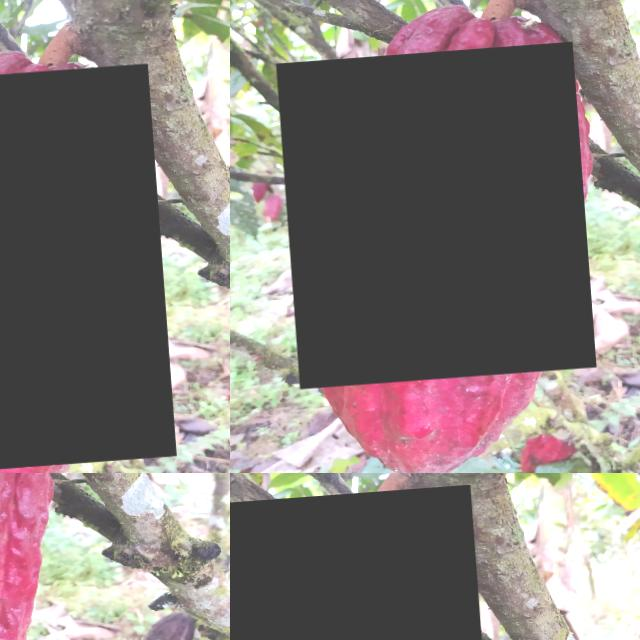Sana: (273, 48, 589, 392), (0, 70, 168, 473), (230, 491, 496, 640), (0, 473, 221, 640)
